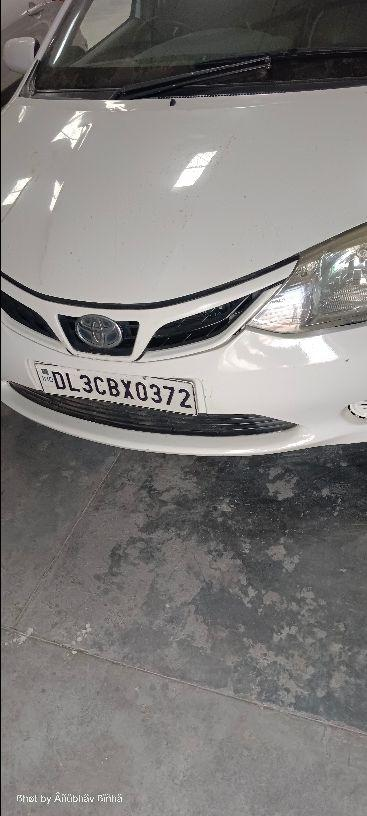license_plate: (26, 358, 200, 416)
